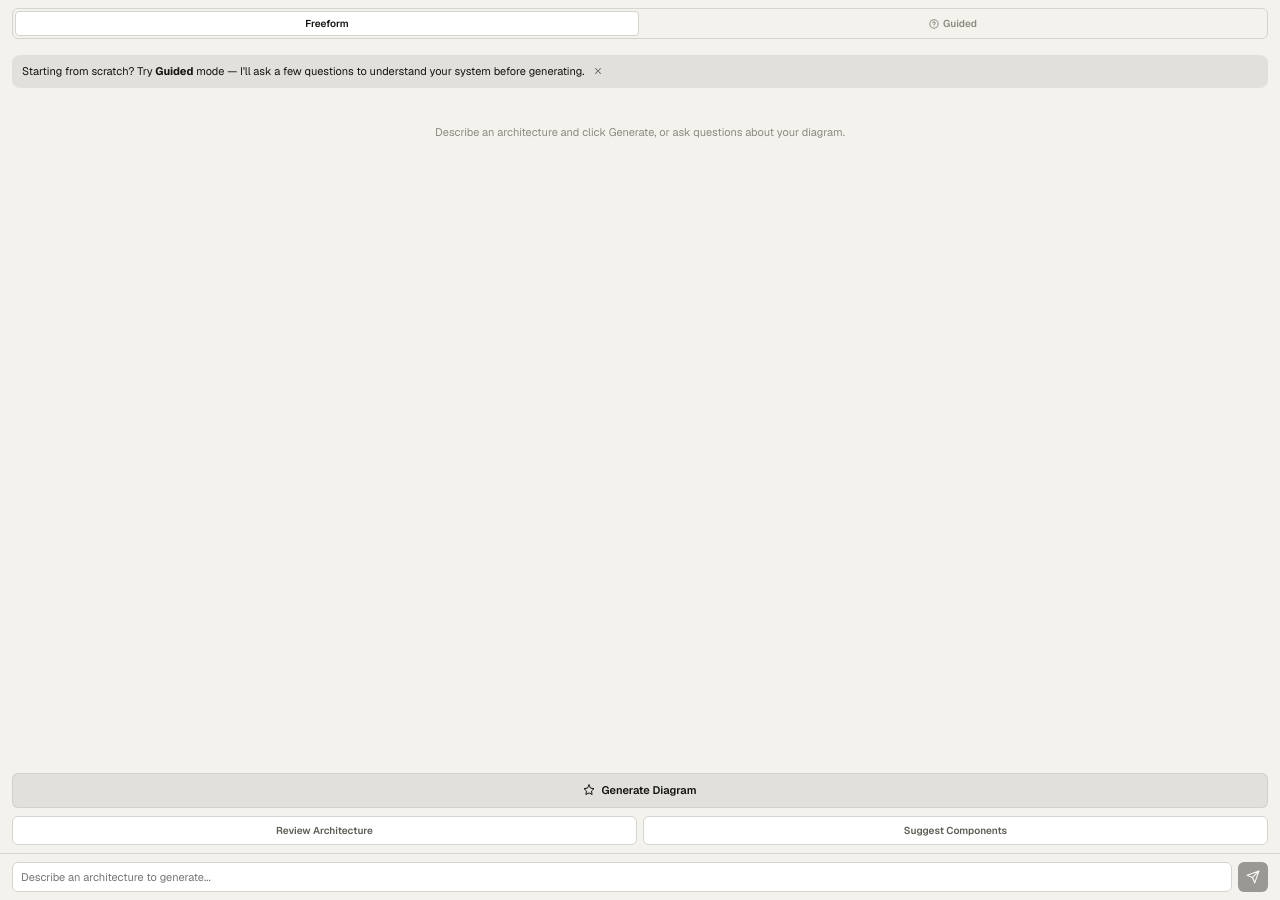
Test: AIPanel › mode toggle › switching to guided mode shows guided placeholder
The width and height of the screenshot is (1280, 900).
Click the button "Guided" at {"x": 953, "y": 24}, box [641, 11, 1265, 36]
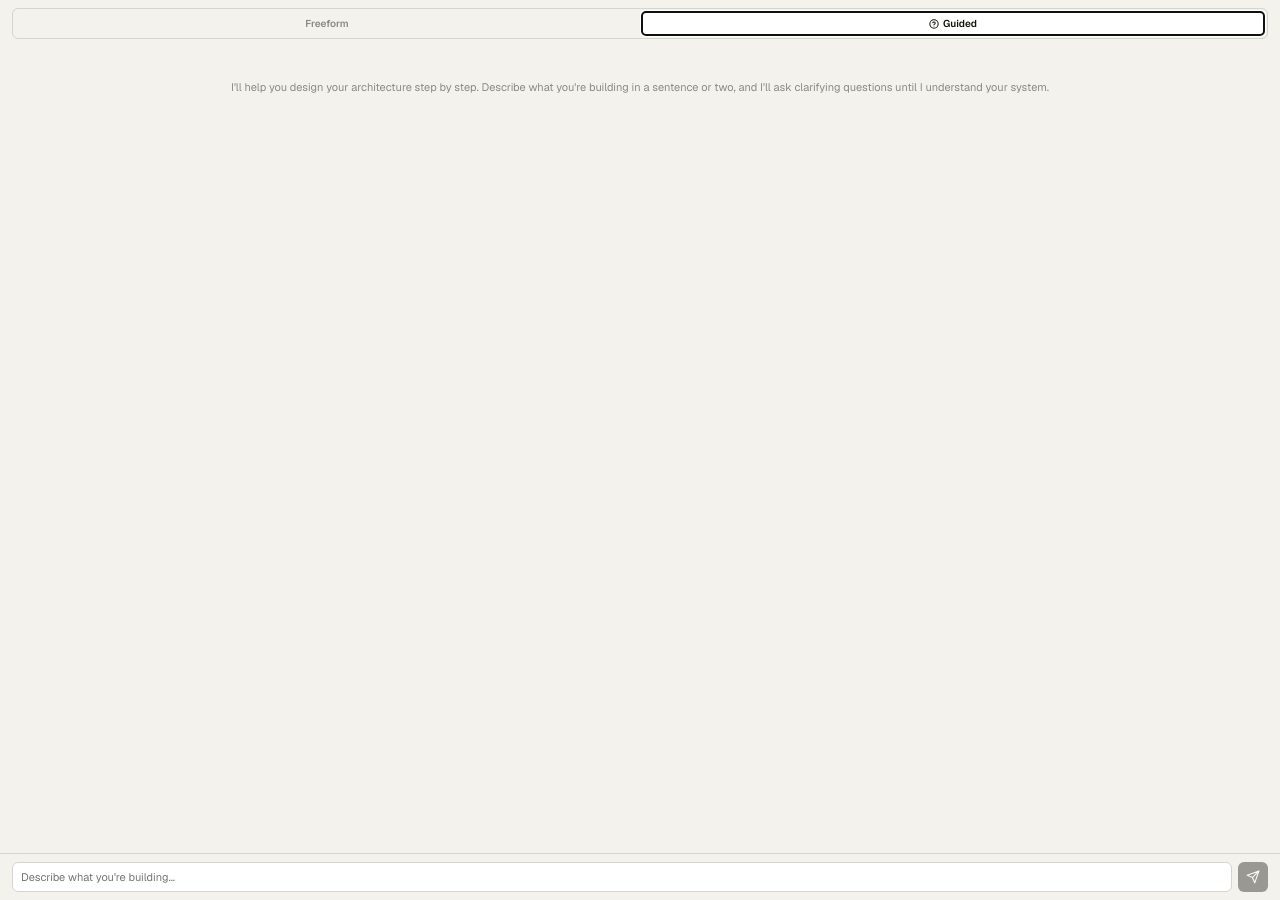
Expected: the text box with placeholder "Describe what you're building..." is shown, [12, 862, 1232, 892]
